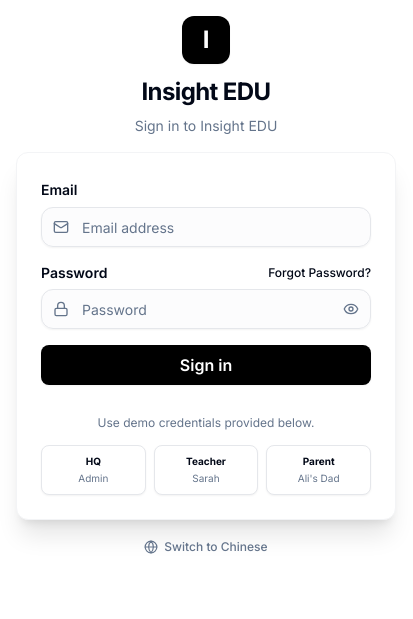
Scenario: Error Handling - API Errors › Authentication Errors › should handle 401 Unauthorized
Type "test@example.com" into the field with placeholder "Email address". click: (206, 227)
box: 41,207 -> 371,247
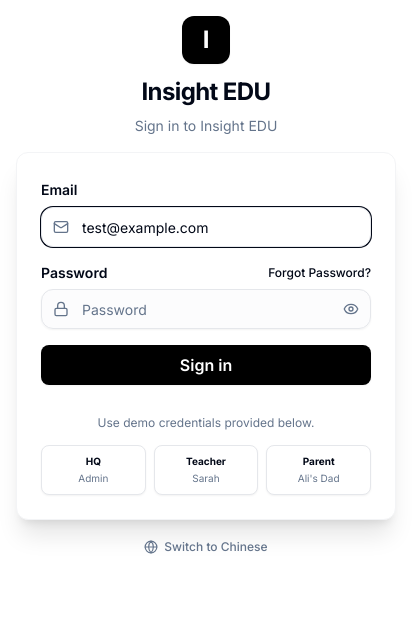
Type "wrongpassword" into the password field with placeholder "Password". click: (206, 309)
box: 41,289 -> 371,329
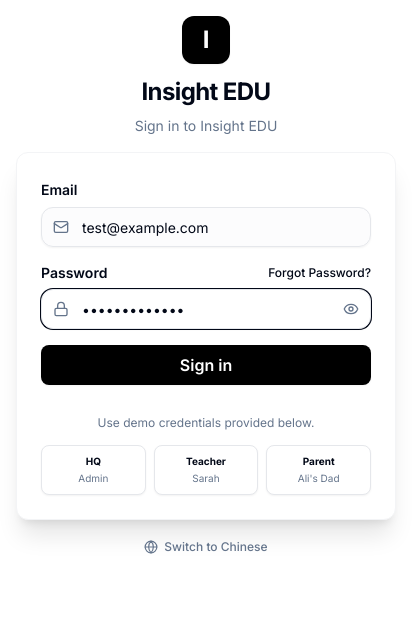
Click the submit button. click: (206, 365)
box: 41,345 -> 371,385
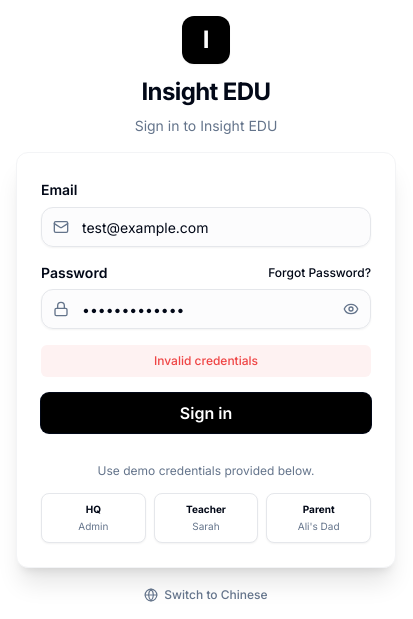
Expected: the text "Invalid credentials" is shown, 41,345 -> 371,377
